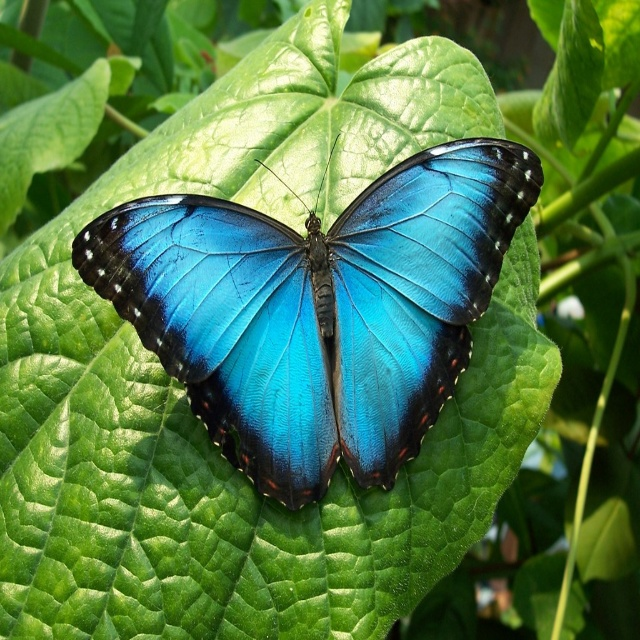Butterfly: (75, 131, 545, 511)
